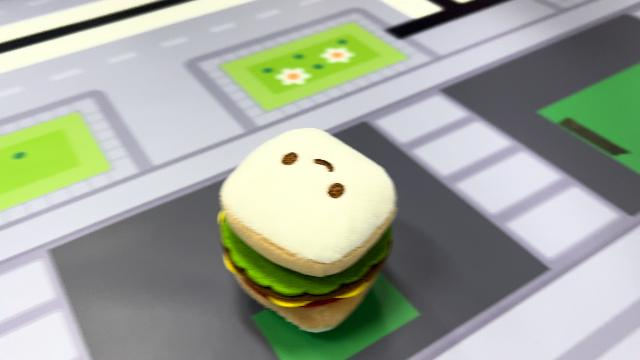sandwich: (214, 125, 400, 333)
